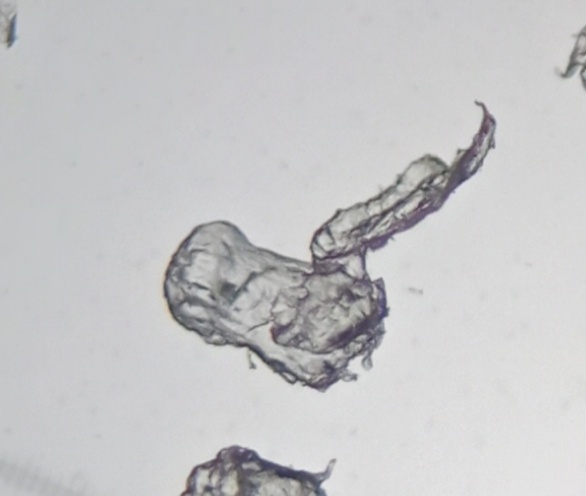microplastic: (154, 97, 498, 386), (174, 439, 352, 496)
